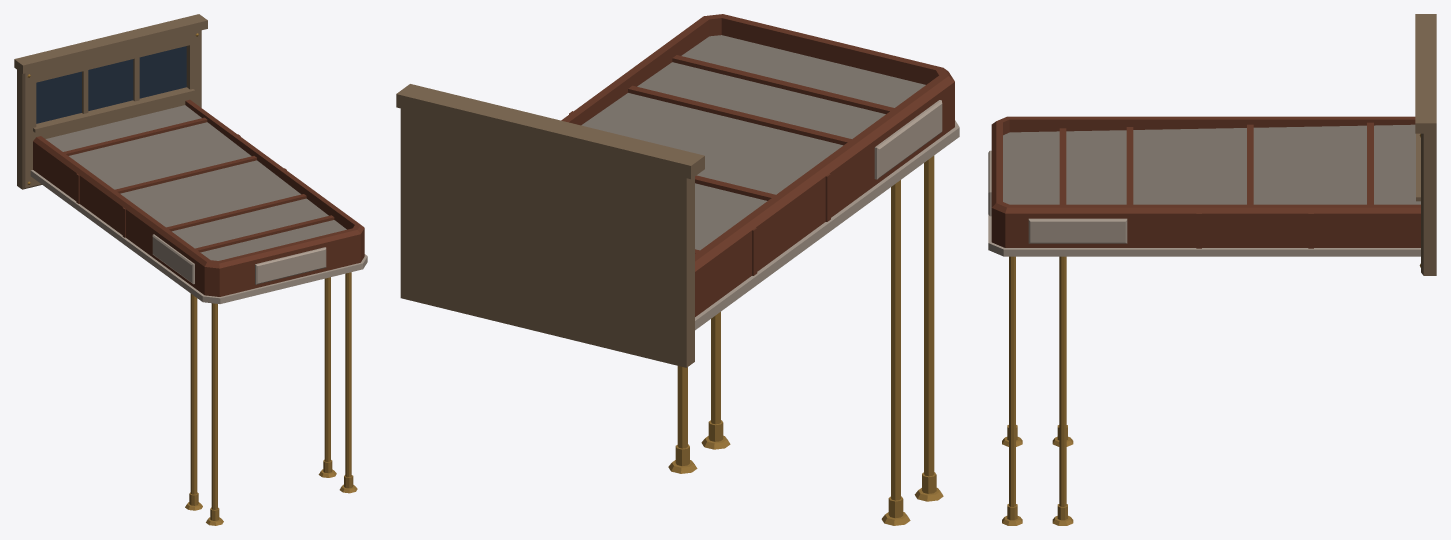
File: doorman-canopy-0d1796.glb
3 views of the same model, side by side, from view 1: azimuth 30°, elevation 25°; view 2: azimuth 150°, elevation 25°; view 3: azimuth 270°, elevation 25° (orthographic). The views are drawn at different scales.
Parts seen in each view (by area): view 1: canopy; view 2: canopy; view 3: canopy.
Boxes of the visible parts, <box> form: canopy: <box>14,14,367,525</box>; canopy: <box>396,14,959,525</box>; canopy: <box>988,14,1436,525</box>.
Bounding box in the file's own units: 2.31 × 4.07 × 4.
